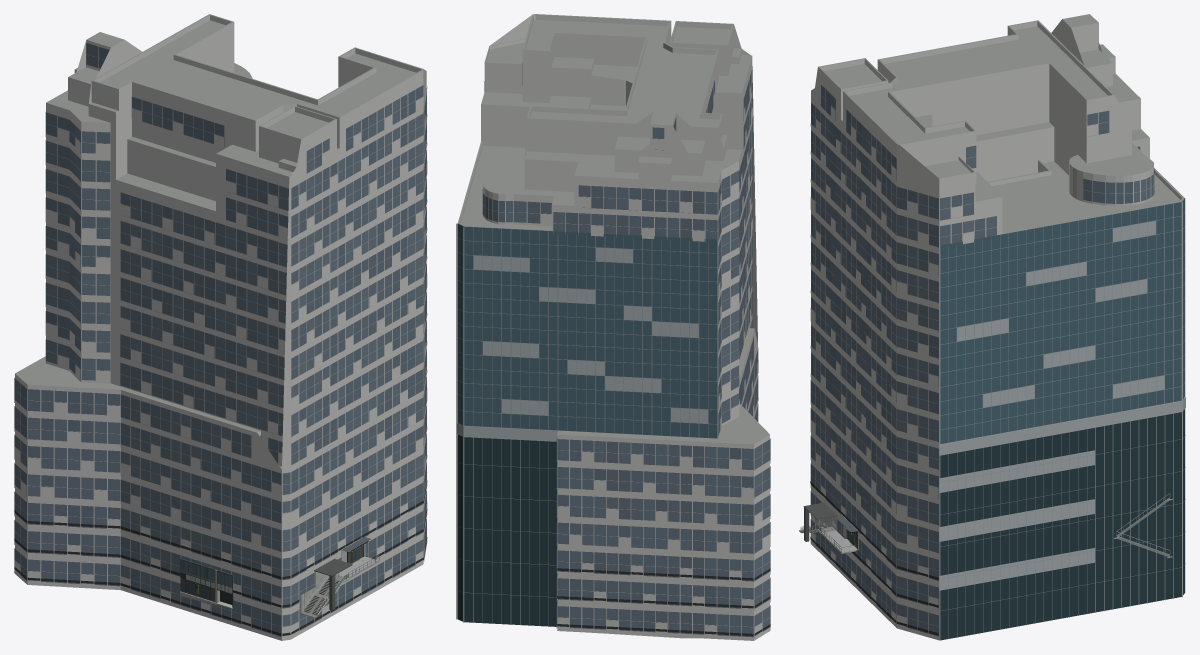
The model's file is fukuras.glb.
3 views of the same model, side by side, from view 1: azimuth 30°, elevation 25°; view 2: azimuth 150°, elevation 25°; view 3: azimuth 270°, elevation 25° (orthographic). The views are drawn at different scales.
Parts seen in each view (by area): view 1: fukuras_wall, fukuras_glass1, fukuras_glass0, fukuras_glass2, fukuras_spandrel, fukuras_roof, fukuras_frame, fukuras_sign_housing, left_observed_louver__01, plaza_middle_glazing__05; view 2: fukuras_curtain_glass, fukuras_wall, fukuras_roof, fukuras_circulation_glass, fukuras_glass2, fukuras_glass1, fukuras_spandrel, fukuras_mullion_silver, fukuras_glass0, fukuras_infill_silver, fukuras_frame, fukuras_sign_housing; view 3: fukuras_curtain_glass, fukuras_wall, fukuras_circulation_glass, fukuras_roof, fukuras_glass1, fukuras_infill_silver, fukuras_mullion_silver, fukuras_glass0, fukuras_spandrel, fukuras_glass2, fukuras_frame, left_observed_louver__01 (+1 smaller).
Boxes of the visible parts, x1,y1,x2,y2 form: fukuras_wall: [15, 15, 426, 640]; fukuras_glass1: [14, 43, 426, 636]; fukuras_glass0: [14, 47, 426, 627]; fukuras_glass2: [21, 97, 426, 630]; fukuras_spandrel: [14, 64, 427, 640]; fukuras_roof: [15, 14, 423, 469]; fukuras_frame: [14, 43, 426, 633]; fukuras_sign_housing: [14, 480, 427, 635]; left_observed_louver__01: [179, 536, 370, 617]; plaza_middle_glazing__05: [181, 545, 363, 601]; fukuras_curtain_glass: [457, 224, 717, 438]; fukuras_wall: [458, 14, 769, 640]; fukuras_roof: [458, 14, 769, 444]; fukuras_circulation_glass: [457, 434, 557, 626]; fukuras_glass2: [482, 68, 770, 636]; fukuras_glass1: [483, 63, 770, 637]; fukuras_spandrel: [482, 85, 770, 640]; fukuras_mullion_silver: [457, 223, 717, 626]; fukuras_glass0: [484, 74, 770, 634]; fukuras_infill_silver: [456, 223, 717, 622]; fukuras_frame: [482, 78, 770, 636]; fukuras_sign_housing: [557, 568, 770, 636]; fukuras_curtain_glass: [940, 198, 1184, 443]; fukuras_wall: [811, 19, 1184, 640]; fukuras_circulation_glass: [939, 409, 1184, 640]; fukuras_roof: [811, 14, 1184, 233]; fukuras_glass1: [810, 85, 1150, 633]; fukuras_infill_silver: [939, 198, 1185, 640]; fukuras_mullion_silver: [939, 198, 1185, 638]; fukuras_glass0: [810, 89, 1154, 609]; fukuras_spandrel: [810, 106, 1154, 639]; fukuras_glass2: [810, 112, 1154, 637]; fukuras_frame: [811, 84, 1152, 633]; left_observed_louver__01: [799, 502, 858, 550].
Bounding box in the file's own units: 73.79 × 105 × 73.26.
18 materials, 5 textured.
